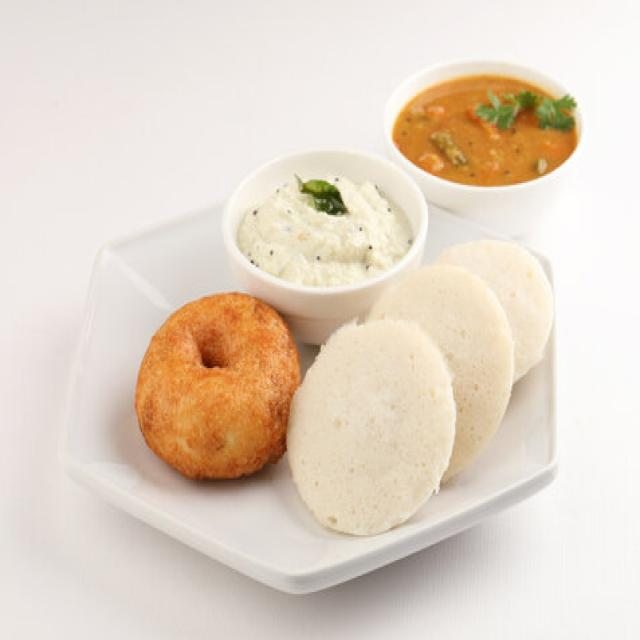IDLI: (286, 238, 552, 530)
POHA: (132, 284, 307, 480)
